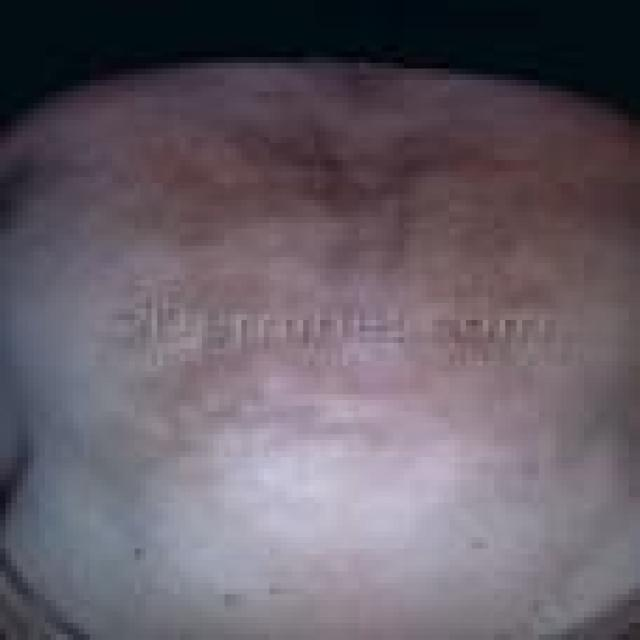Melasma: (115, 112, 577, 441)
